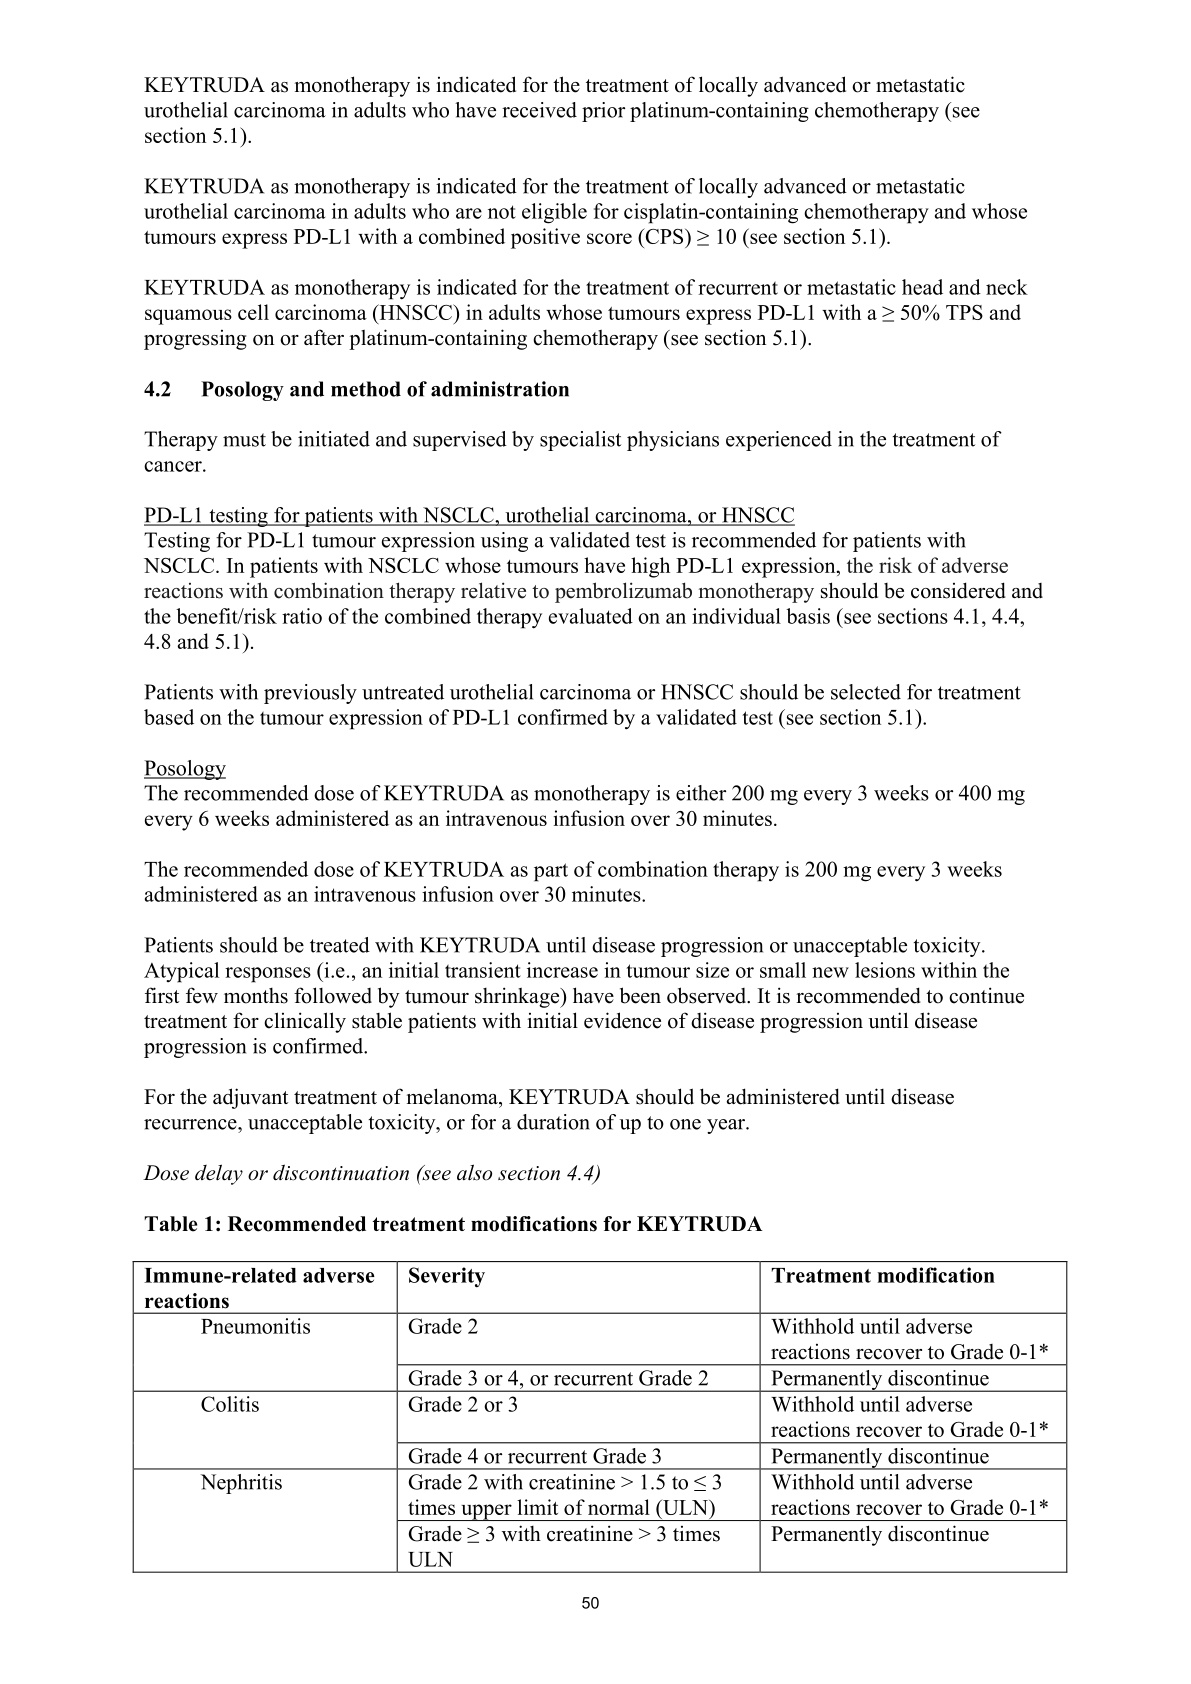merged_cells: (131, 1260, 1069, 1574)
